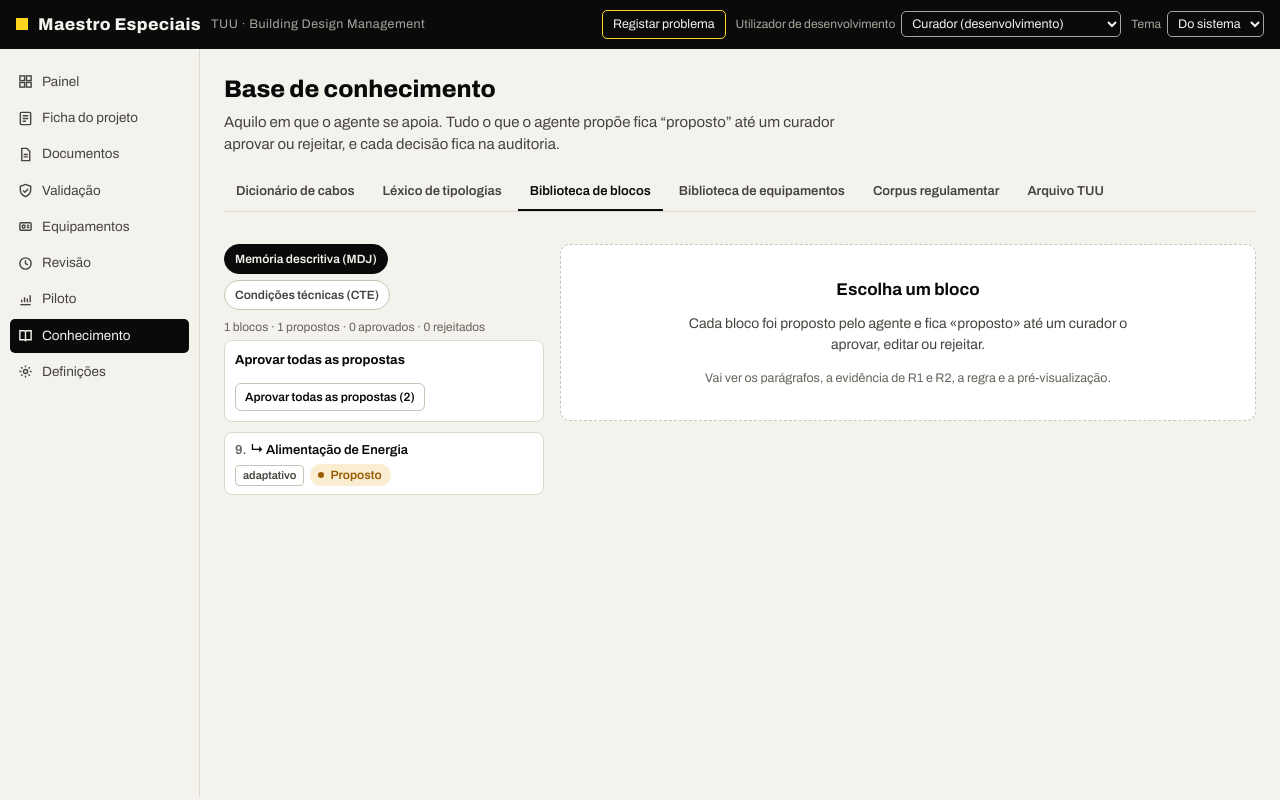
Test: block library (screen G) › lets a curator approve every proposal at once, with a reason
Click the button "Aprovar todas as propostas (2)" at (330, 397), box [235,383,425,411]
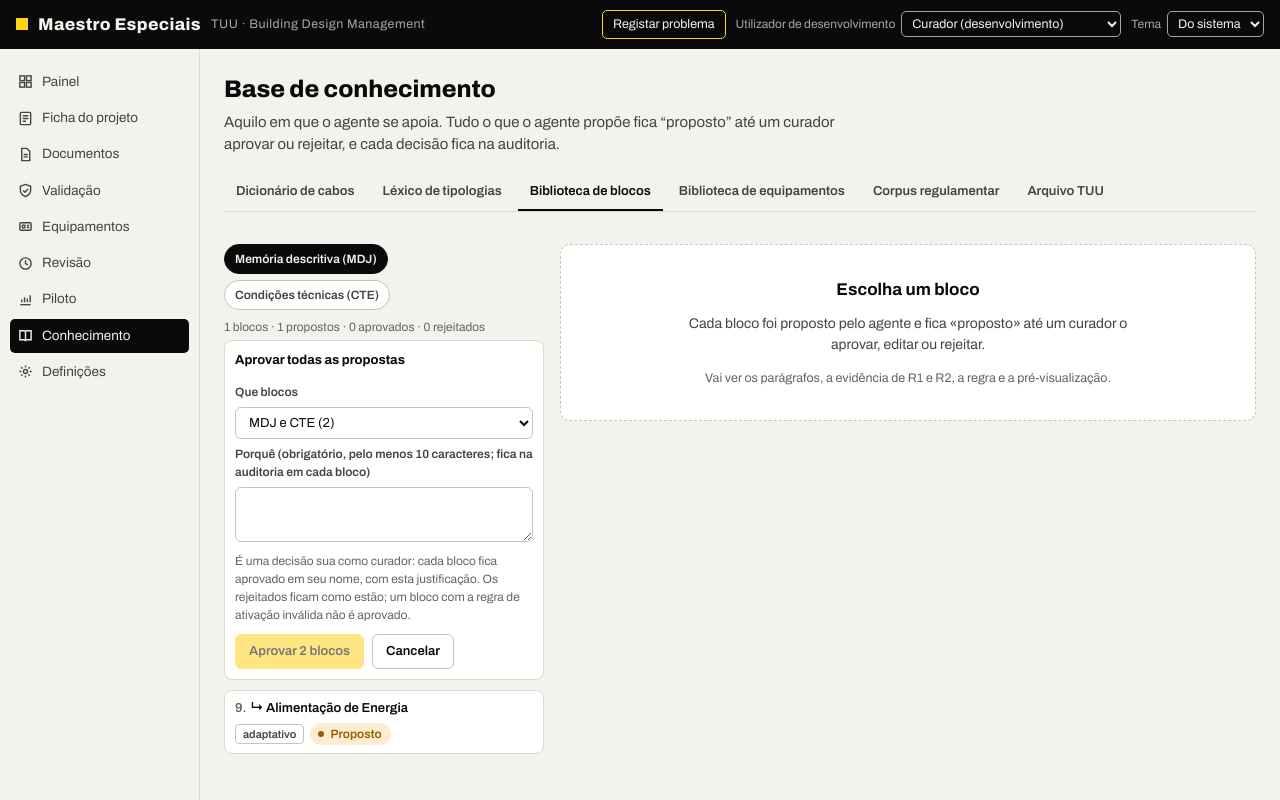
Now the button "Aprovar 2 blocos" is disabled, box [235,634,364,669]
Type "Piloto: dadas como boas." into the text box labelled "Porquê (obrigatório, pelo menos 10" at (384, 514), box [235,487,533,542]
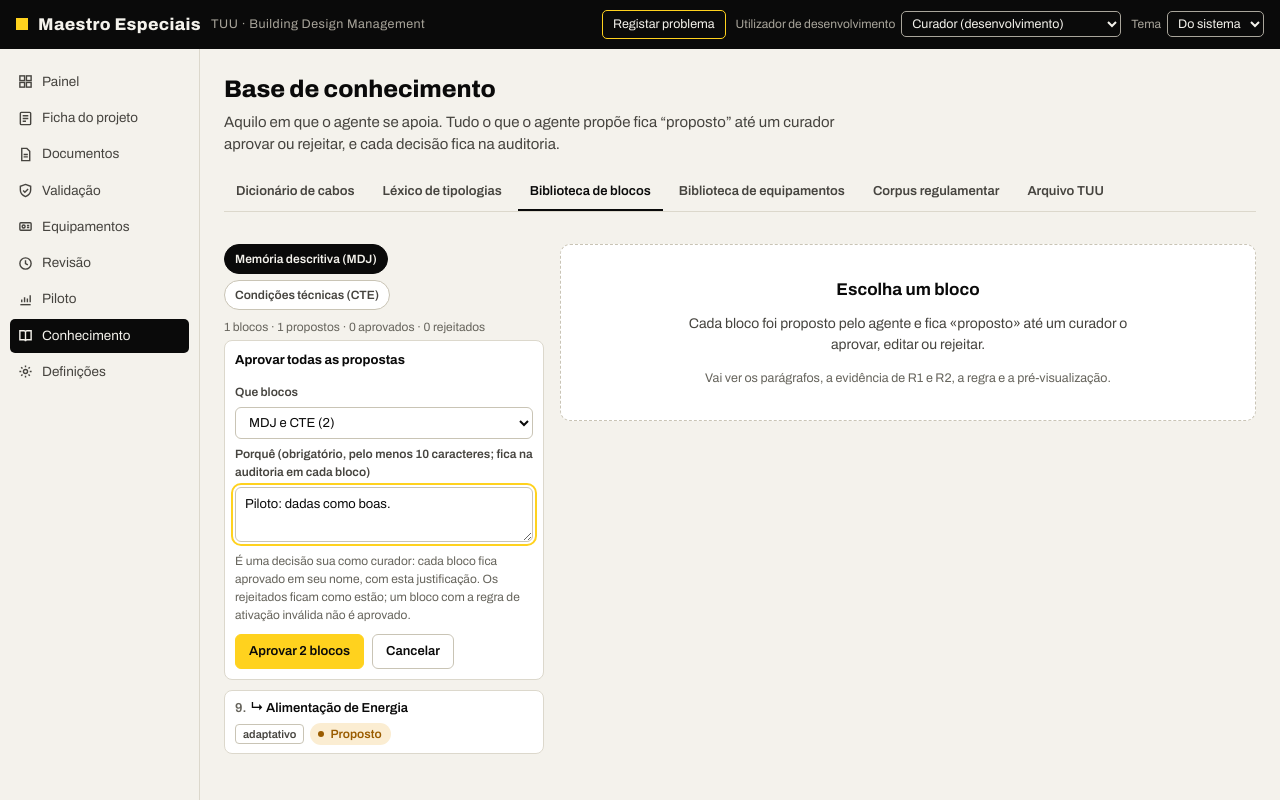
Select "Só o MDJ (1)" in the dropdown labelled "Que blocos" at (384, 423), box [235,407,533,439]
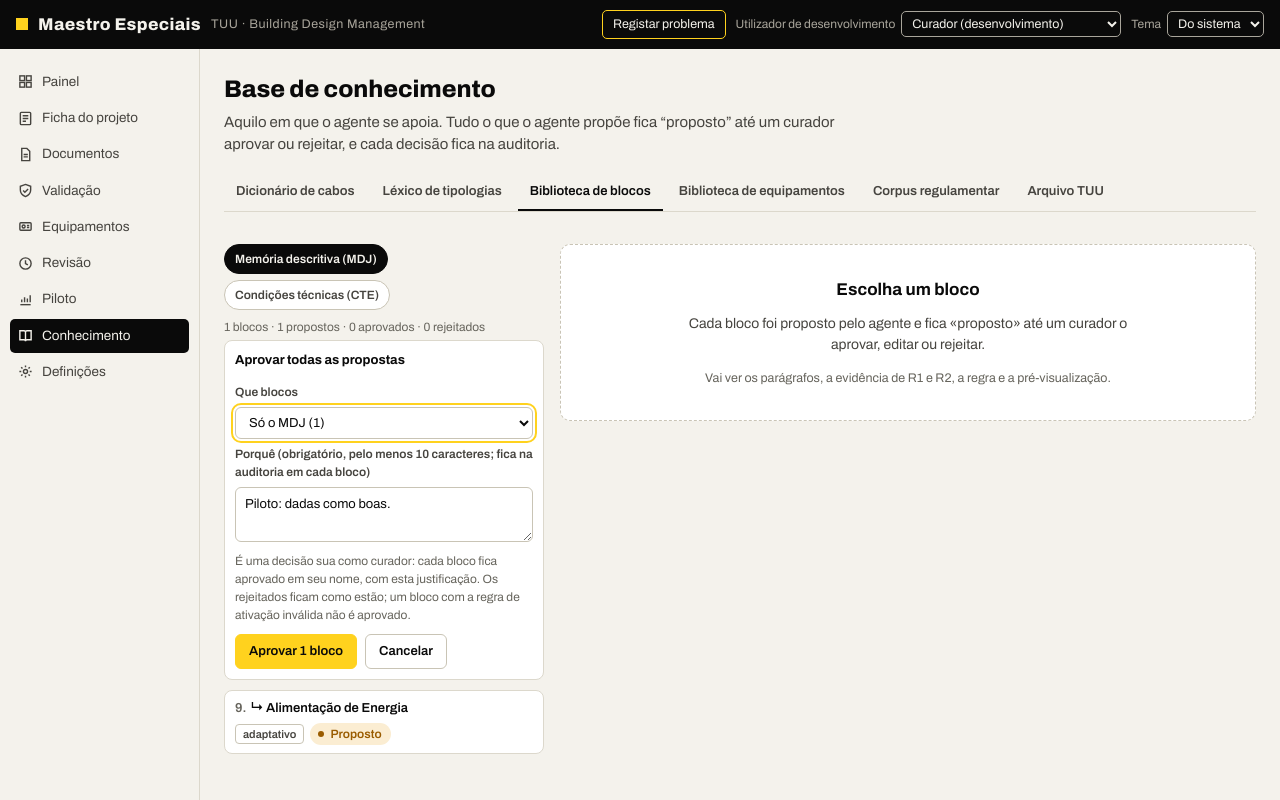
Click the button "Aprovar 1 bloco" at (296, 652), box [235,634,357,669]
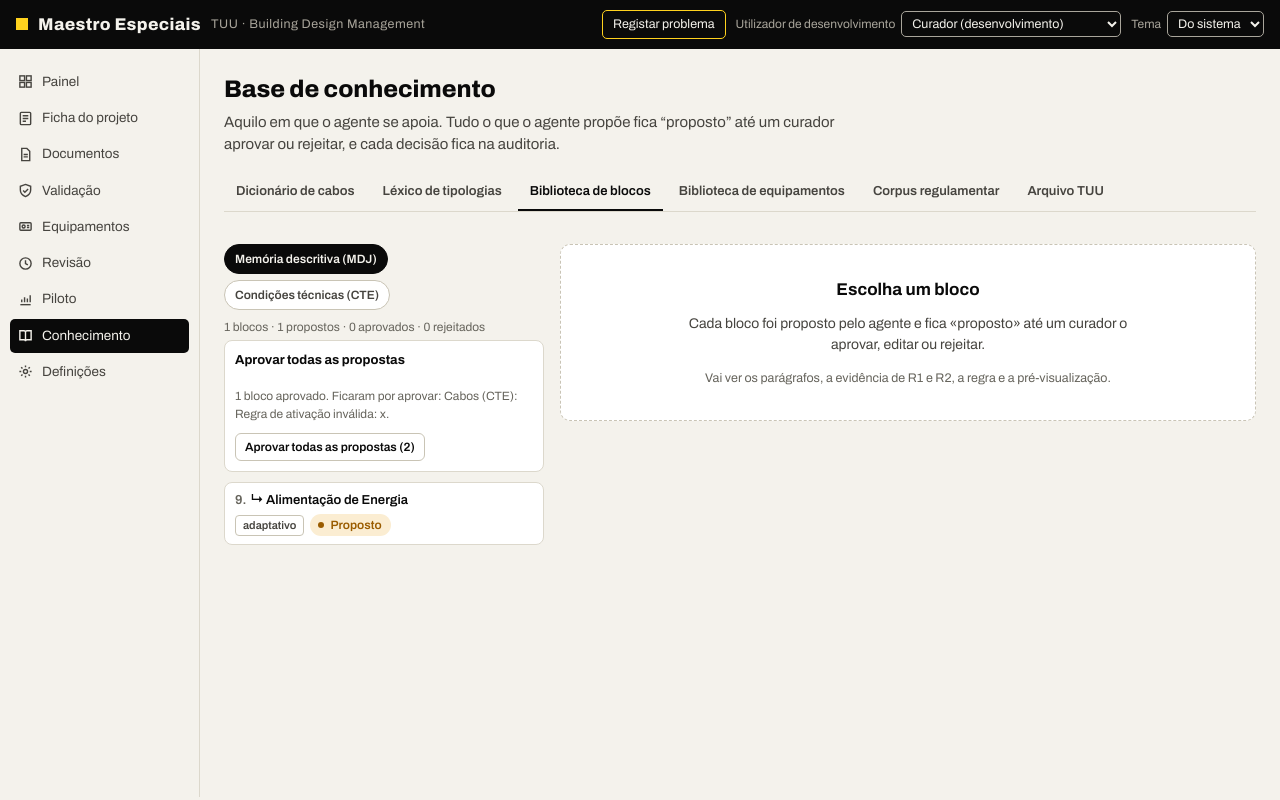
Now the message shows "1 bloco aprovado. Ficaram por aprovar: Cabos (CTE)", box [235,387,533,423]
